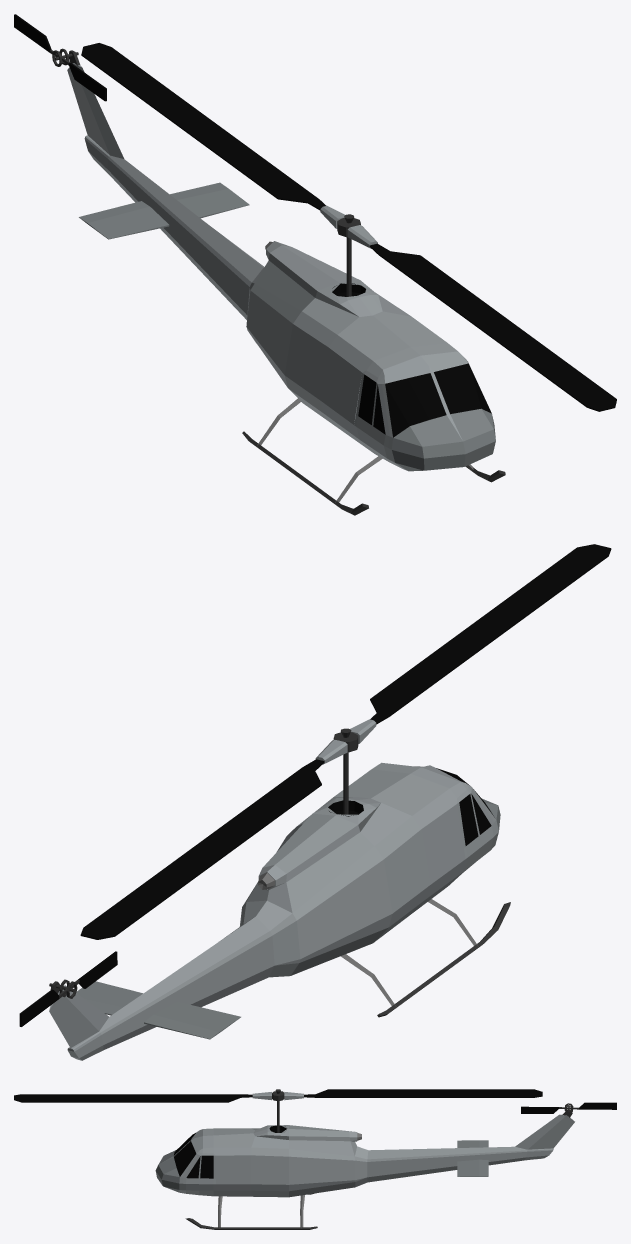
The picture shows the model from 3 angles, top to bottom: view 1: azimuth 30°, elevation 25°; view 2: azimuth 150°, elevation 25°; view 3: azimuth 270°, elevation 25°; orthographic projection. The views are drawn at different scales.
Visible parts, largest first — view 1: Circle.024, Circle.027, Circle.025, Circle.026, Circle.028; view 2: Circle.024, Circle.027, Circle.026, Circle.028; view 3: Circle.024, Circle.027, Circle.029, Circle.028, Circle.025.
Boxes of the visible parts, box(x1,y1,x2,y2) form: Circle.024: box(67, 50, 505, 515); Circle.027: box(81, 43, 616, 411); Circle.025: box(385, 363, 491, 437); Circle.026: box(354, 370, 390, 459); Circle.028: box(14, 14, 106, 101); Circle.024: box(49, 762, 510, 1060); Circle.027: box(80, 544, 611, 939); Circle.026: box(457, 788, 496, 871); Circle.028: box(19, 951, 117, 1026); Circle.024: box(155, 1109, 574, 1229); Circle.027: box(14, 1089, 542, 1132); Circle.029: box(182, 1153, 215, 1190); Circle.028: box(521, 1102, 616, 1113); Circle.025: box(174, 1133, 196, 1176).
Bounding box in the file's own units: 235 × 364 × 1630.
